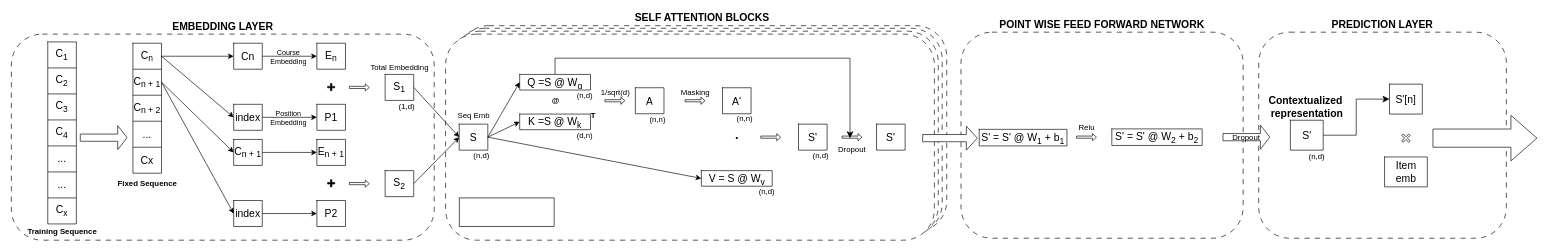
Some shapes in this 1548 by 252 pixel diagram are drawn without their labels. The shapes that lost their labels are listed below. From the top down, each one's box as (x1, y1, x2, y2) in pixels, then its label:
(1432, 115, 1537, 161): Prediction
(459, 197, 554, 227): n: Number of user's course d: Number of dims (hidden units)
